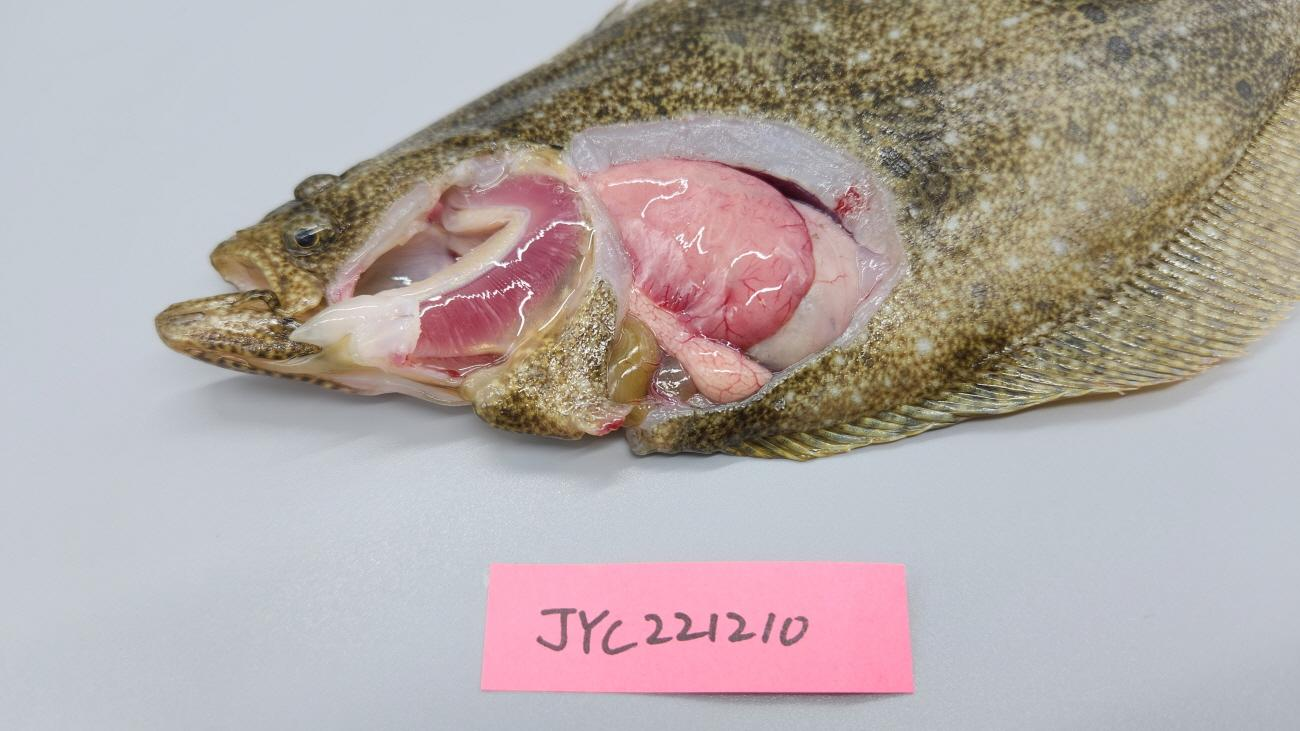MAGIN: (528, 175, 583, 309)
MAGIP: (512, 271, 550, 319)
